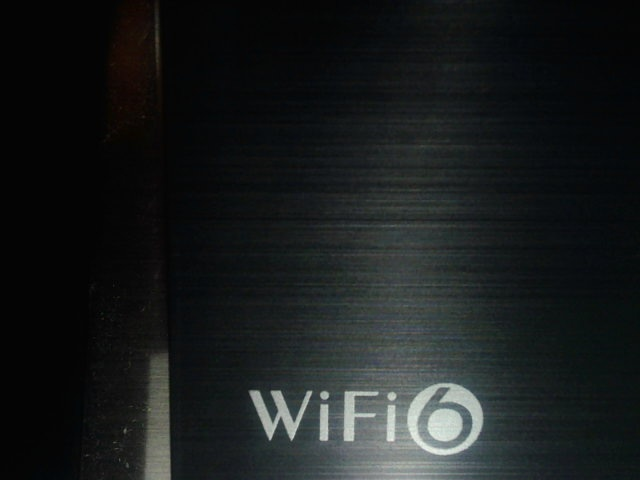AK_ZTEWIFI6Black: (237, 372, 493, 462)
